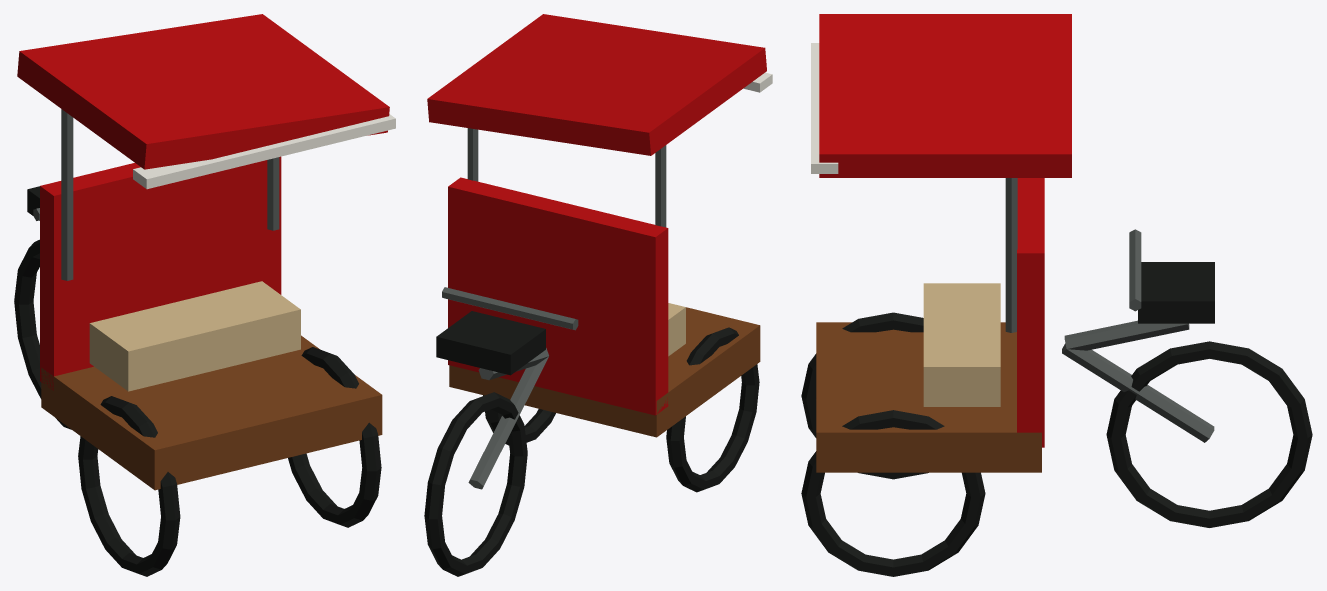
Rendered from Becak.obj.
The picture shows the model from 3 angles, left to right: view 1: azimuth 30°, elevation 25°; view 2: azimuth 150°, elevation 25°; view 3: azimuth 270°, elevation 25°; orthographic projection. The views are drawn at different scales.
Parts seen in each view (by area): view 1: CANOPY, CABIN_BACK, CABIN_BASE, CABIN_SEAT, WHEEL_FRONT_-0.42, WHEEL_FRONT_0.42, CANOPY_WHITE_STRIPE, WHEEL_REAR, CANOPY_POST_-0.43, CANOPY_POST_0.43; view 2: CABIN_BACK, CANOPY, CABIN_BASE, WHEEL_REAR, SEAT, WHEEL_FRONT_-0.42, FRAME_A, HANDLE, CANOPY_POST_-0.43, WHEEL_FRONT_0.42, CABIN_SEAT, CANOPY_POST_0.43; view 3: CANOPY, CABIN_BASE, WHEEL_REAR, CABIN_SEAT, CABIN_BACK, WHEEL_FRONT_0.42, SEAT, FRAME_A, WHEEL_FRONT_-0.42, FRAME_B, CANOPY_POST_0.43, CANOPY_WHITE_STRIPE (+1 smaller).
Boxes of the visible parts, x1,y1,x2,y2 form: CANOPY: [17, 14, 389, 169]; CABIN_BACK: [40, 156, 281, 390]; CABIN_BASE: [41, 335, 382, 490]; CABIN_SEAT: [89, 281, 300, 391]; WHEEL_FRONT_-0.42: [78, 396, 180, 576]; WHEEL_FRONT_0.42: [288, 347, 381, 527]; CANOPY_WHITE_STRIPE: [133, 114, 395, 189]; WHEEL_REAR: [14, 239, 71, 429]; CANOPY_POST_-0.43: [61, 109, 73, 280]; CANOPY_POST_0.43: [267, 157, 279, 230]; CABIN_BACK: [448, 177, 668, 415]; CANOPY: [427, 14, 766, 155]; CABIN_BASE: [449, 307, 760, 437]; WHEEL_REAR: [424, 392, 527, 576]; SEAT: [436, 311, 545, 375]; WHEEL_FRONT_-0.42: [666, 327, 759, 492]; FRAME_A: [468, 356, 548, 489]; HANDLE: [442, 287, 578, 330]; CANOPY_POST_-0.43: [655, 145, 666, 227]; WHEEL_FRONT_0.42: [483, 395, 555, 445]; CABIN_SEAT: [668, 303, 685, 356]; CANOPY_POST_0.43: [467, 128, 478, 181]; CANOPY: [819, 14, 1071, 177]; CABIN_BASE: [816, 322, 1041, 472]; WHEEL_REAR: [1106, 341, 1312, 527]; CABIN_SEAT: [923, 283, 1000, 406]; CABIN_BACK: [1017, 178, 1044, 447]; WHEEL_FRONT_0.42: [801, 410, 985, 576]; SEAT: [1138, 262, 1214, 323]; FRAME_A: [1062, 343, 1214, 442]; WHEEL_FRONT_-0.42: [801, 312, 928, 479]; FRAME_B: [1064, 320, 1189, 350]; CANOPY_POST_0.43: [1005, 178, 1017, 332]; CANOPY_WHITE_STRIPE: [811, 43, 838, 173].
Bounding box in the file's own units: 1.04 × 1.83 × 1.86.
